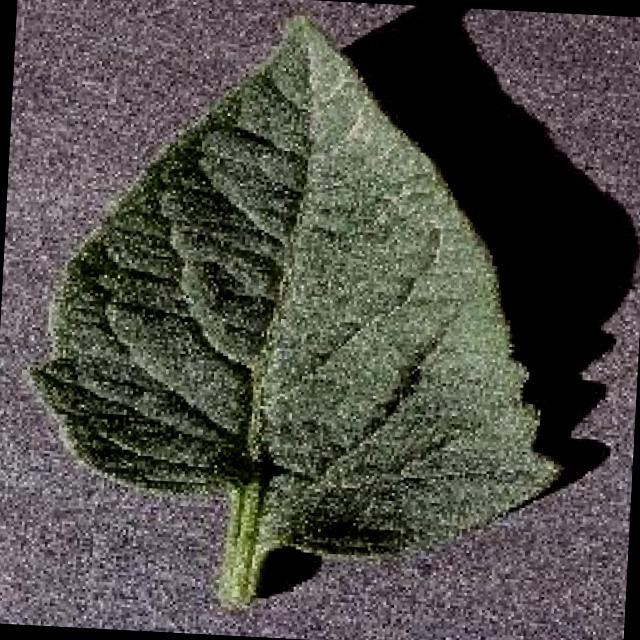healthy: (22, 9, 564, 599)
